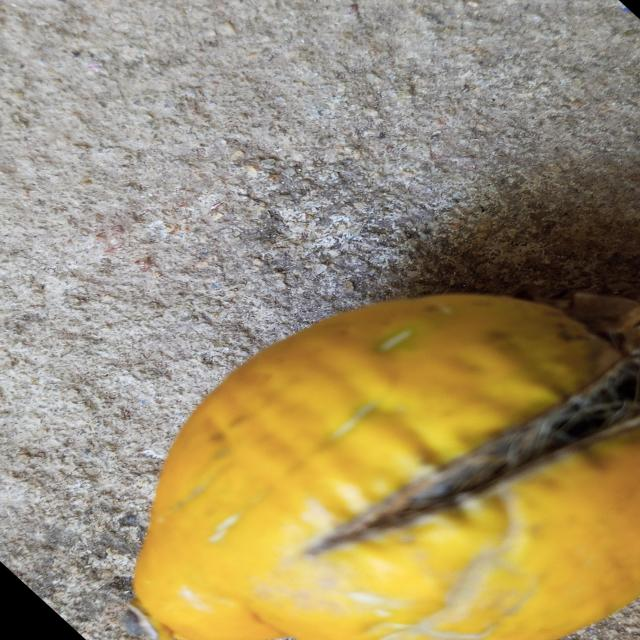damaged: (134, 294, 640, 640)
